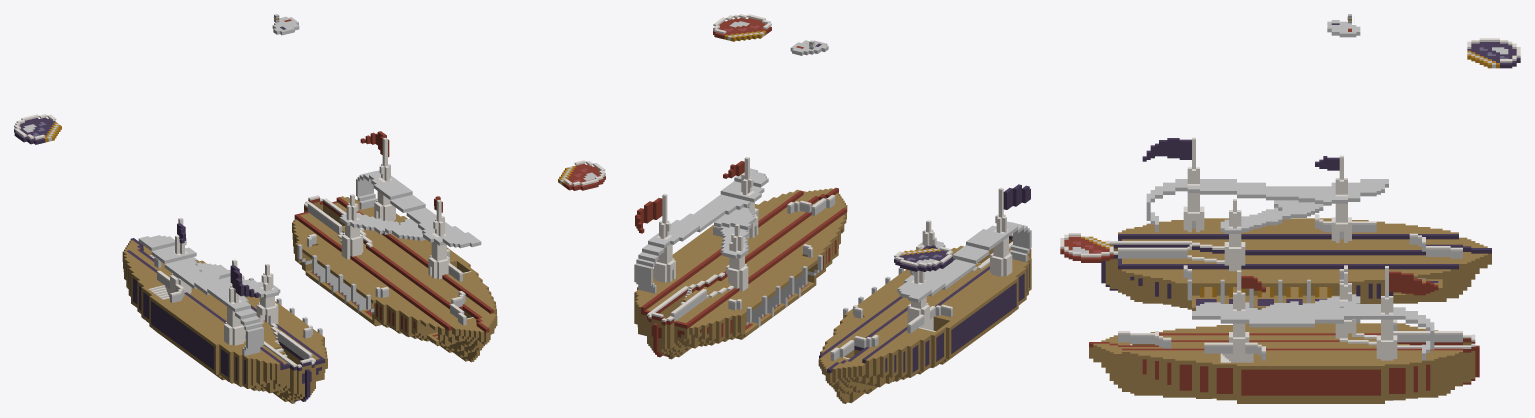
Rendered from minecraft.obj.
3 renders of one model, left to right at view 1: azimuth 30°, elevation 25°; view 2: azimuth 150°, elevation 25°; view 3: azimuth 270°, elevation 25°, orthographic. The views are drawn at different scales.
Size of the model in its own units: 125 by 88.5 by 112.
